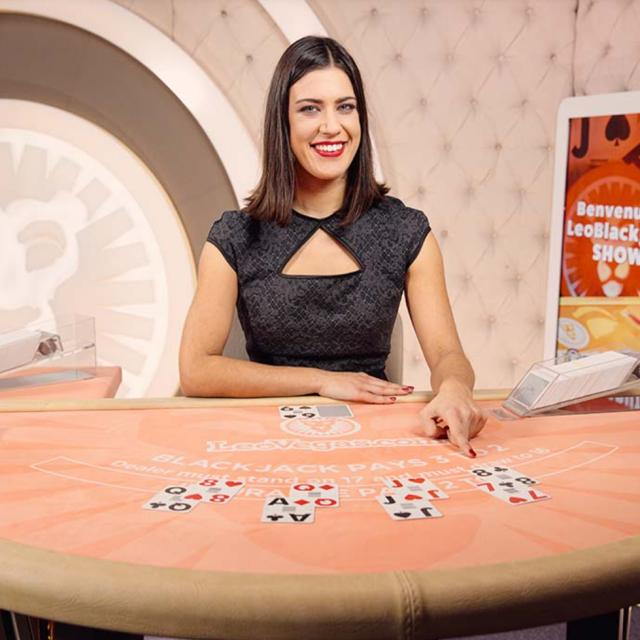Card-6: (279, 405, 318, 419)
Card-7: (474, 481, 551, 505)
Card-8: (469, 464, 540, 490), (183, 477, 245, 505)
Card-A: (261, 496, 314, 523)
Card-J: (376, 494, 442, 520), (383, 476, 449, 502)
Card-Q: (140, 485, 199, 513), (289, 483, 339, 506)
